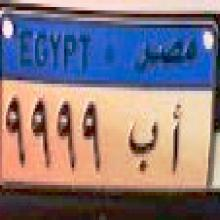9: (2, 88, 26, 170), (80, 95, 103, 175), (28, 95, 51, 173), (54, 95, 76, 173)
alif: (167, 100, 186, 184)
baa: (126, 114, 159, 180)
